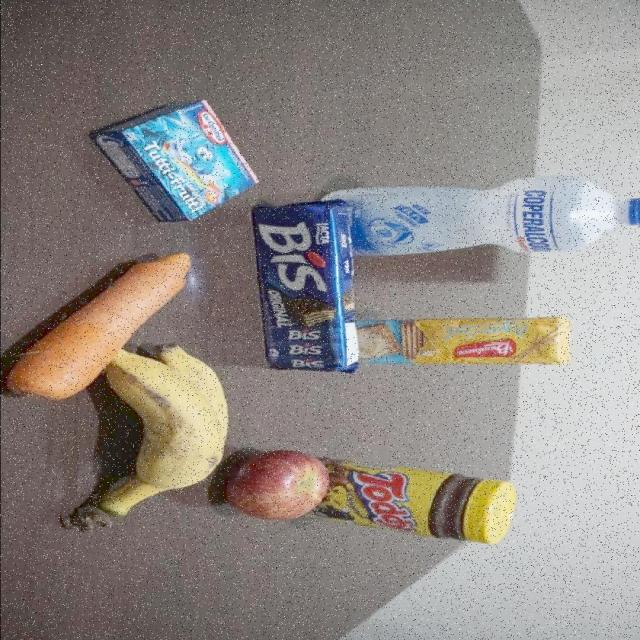AlcoholBottle: (356, 179, 640, 258)
Apple: (226, 450, 328, 522)
Banana: (52, 352, 226, 538)
Carrot: (22, 251, 193, 348)
ChocolatePowder: (340, 466, 514, 546)
Cracker: (360, 316, 571, 365)
Gelatine: (92, 94, 259, 224)
